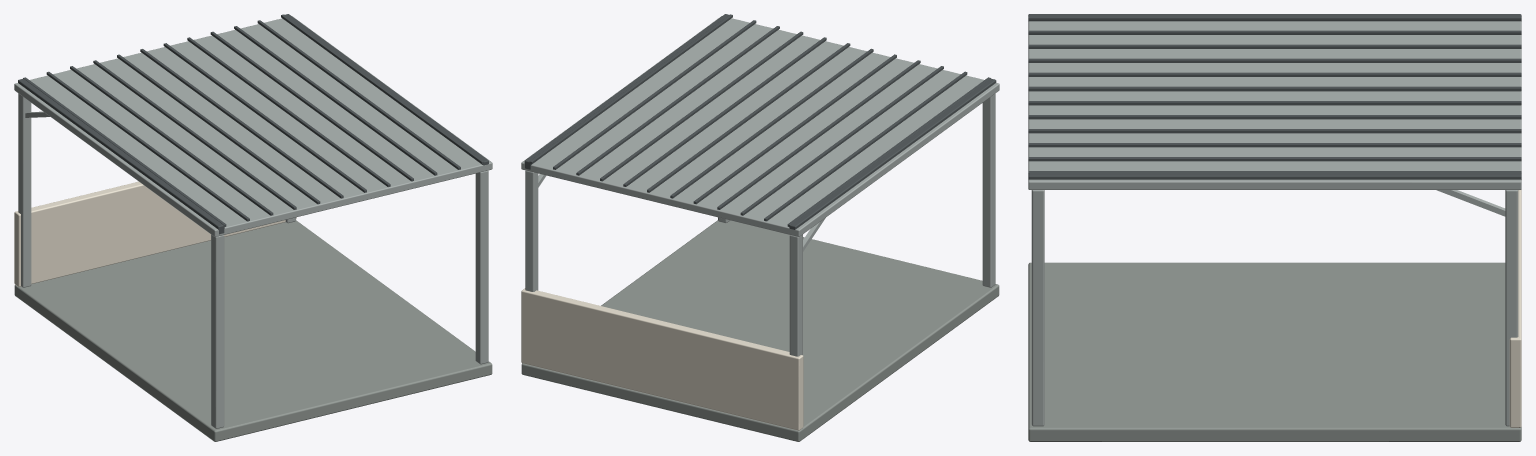
The model's file is coffee-roastery-and-cupping-room-coffee-roastery-and-c-e83d034c__32177.glb.
3 views of the same model, side by side, from view 1: azimuth 30°, elevation 25°; view 2: azimuth 150°, elevation 25°; view 3: azimuth 270°, elevation 25° (orthographic). The views are drawn at different scales.
Parts seen in each view (by area): view 1: coffee-roastery-and-cupping-room-covered-bean-receiving-bay_ (×4); view 2: coffee-roastery-and-cupping-room-covered-bean-receiving-bay_ (×4); view 3: coffee-roastery-and-cupping-room-covered-bean-receiving-bay_ (×4).
Part boxes in pixels (<box>): coffee-roastery-and-cupping-room-covered-bean-receiving-bay_ (×4): <box>14,14,492,441</box>; coffee-roastery-and-cupping-room-covered-bean-receiving-bay_ (×4): <box>521,14,999,441</box>; coffee-roastery-and-cupping-room-covered-bean-receiving-bay_ (×4): <box>1028,14,1521,441</box>.
Size of the model in its own units: 4 by 2.97 by 5.
